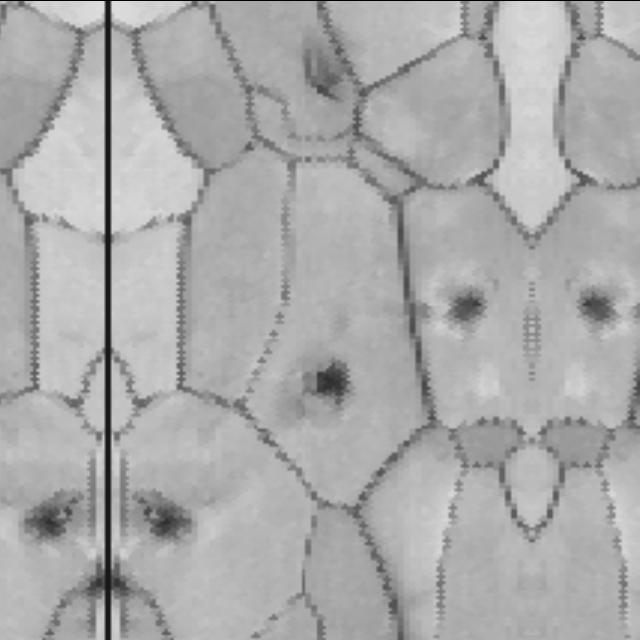good_void: (8, 471, 95, 550), (123, 476, 204, 549), (429, 273, 500, 342), (289, 25, 347, 109), (564, 273, 634, 341), (303, 348, 368, 413)
